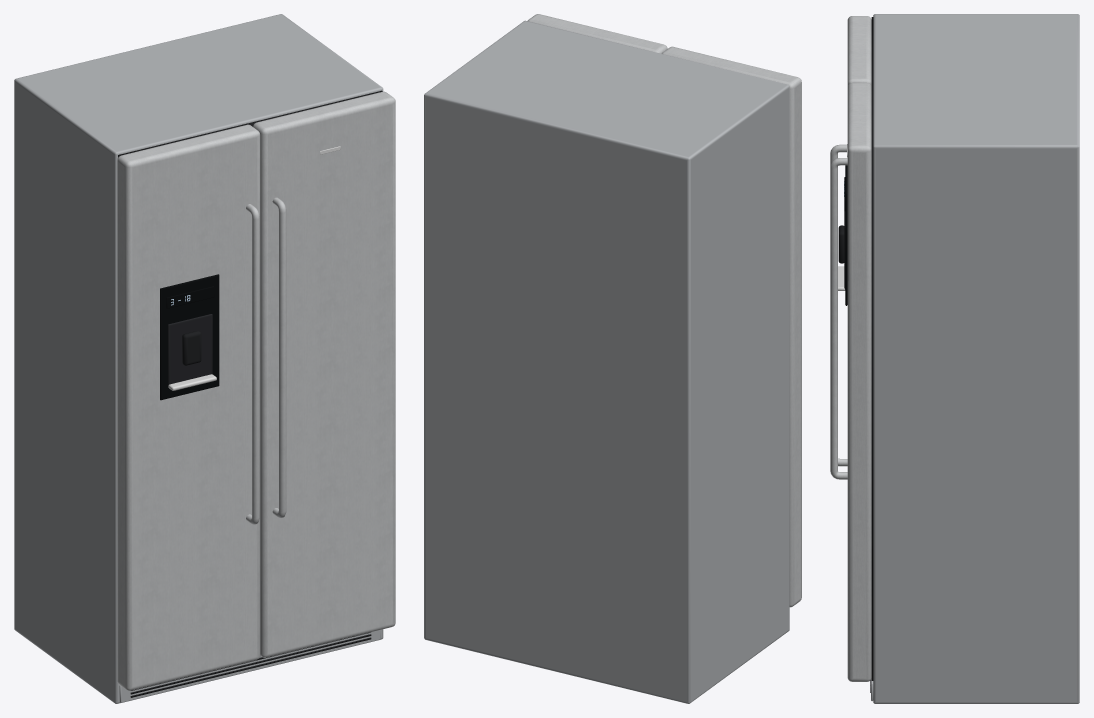
File: frigorifico_americano_inox.glb
3 renders of one model, left to right at view 1: azimuth 30°, elevation 25°; view 2: azimuth 150°, elevation 25°; view 3: azimuth 270°, elevation 25°, orthographic. The views are drawn at different scales.
Parts seen in each view (by area): view 1: frigorifico_americano_inox; view 2: frigorifico_americano_inox; view 3: frigorifico_americano_inox.
Boxes of the visible parts, box(x1,y1,x2,y2) form: frigorifico_americano_inox: box(14, 14, 395, 703); frigorifico_americano_inox: box(424, 14, 801, 703); frigorifico_americano_inox: box(830, 14, 1079, 703).
Size of the model in its own units: 0.91 by 1.79 by 0.7201.
7 materials, 1 textured.
